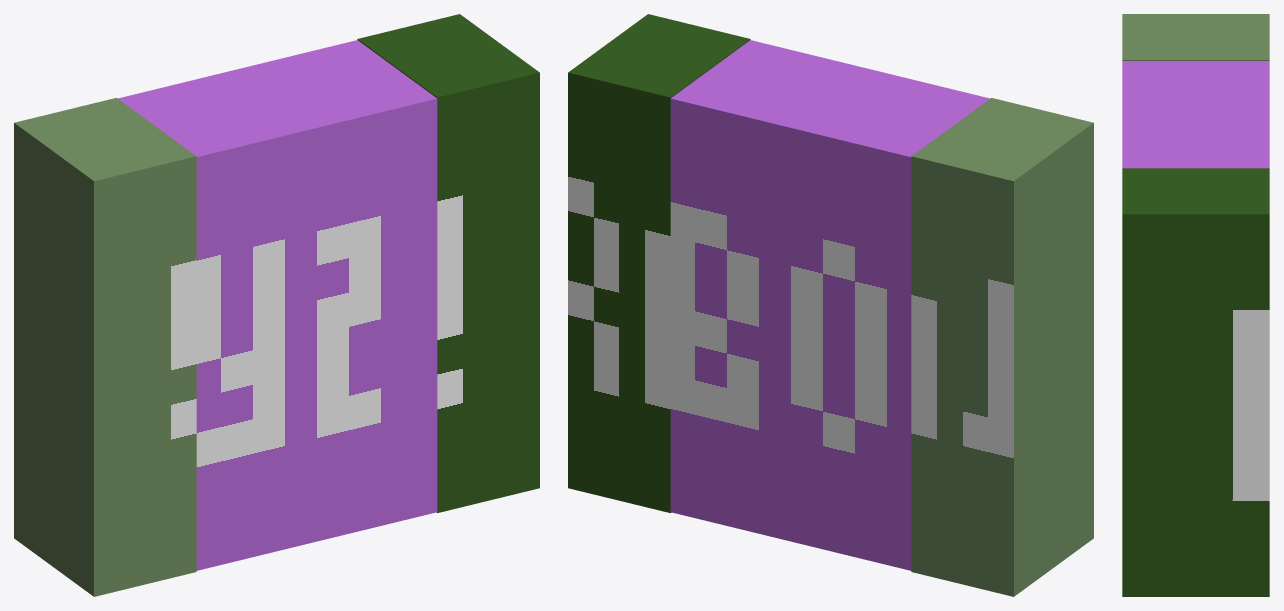
Rendered from edit_skin_top.obj.
3 views of the same model, side by side, from view 1: azimuth 30°, elevation 25°; view 2: azimuth 150°, elevation 25°; view 3: azimuth 270°, elevation 25° (orthographic). The views are drawn at different scales.
Visible parts, largest first — view 1: torsoe; view 2: torsoe; view 3: torsoe.
Boxes of the visible parts, box(x1,y1,x2,y2) form: torsoe: box(14, 14, 539, 596); torsoe: box(568, 14, 1093, 596); torsoe: box(1122, 14, 1269, 596).
Size of the model in its own units: 7.28 by 6.49 by 2.26.
